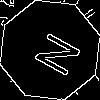N: (25, 25, 82, 79)
